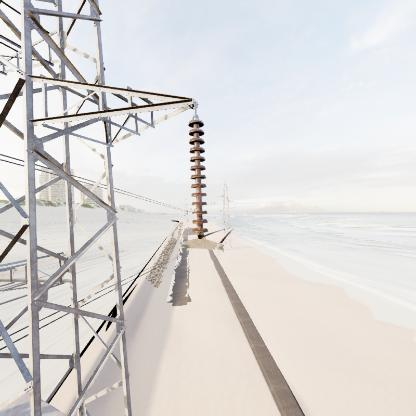insulator: (185, 117, 214, 247)
